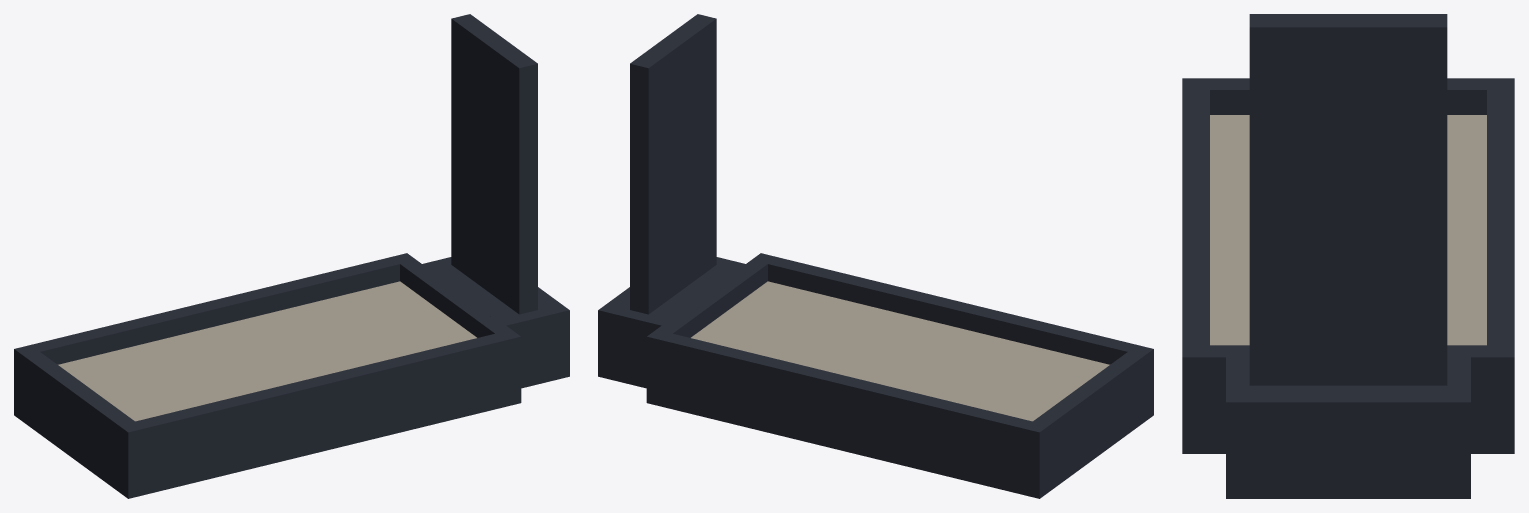
Rendered from SM_Cem_Stela.glb.
3 views of the same model, side by side, from view 1: azimuth 30°, elevation 25°; view 2: azimuth 150°, elevation 25°; view 3: azimuth 270°, elevation 25° (orthographic). The views are drawn at different scales.
Visible parts, largest first — view 1: SM_Cem_Stela; view 2: SM_Cem_Stela; view 3: SM_Cem_Stela.
Part boxes in pixels (x1,y1,x2,y2): SM_Cem_Stela: (14,14,569,498); SM_Cem_Stela: (598,14,1153,498); SM_Cem_Stela: (1182,14,1514,498).
Size of the model in its own units: 1.94 by 1.27 by 0.8401.
